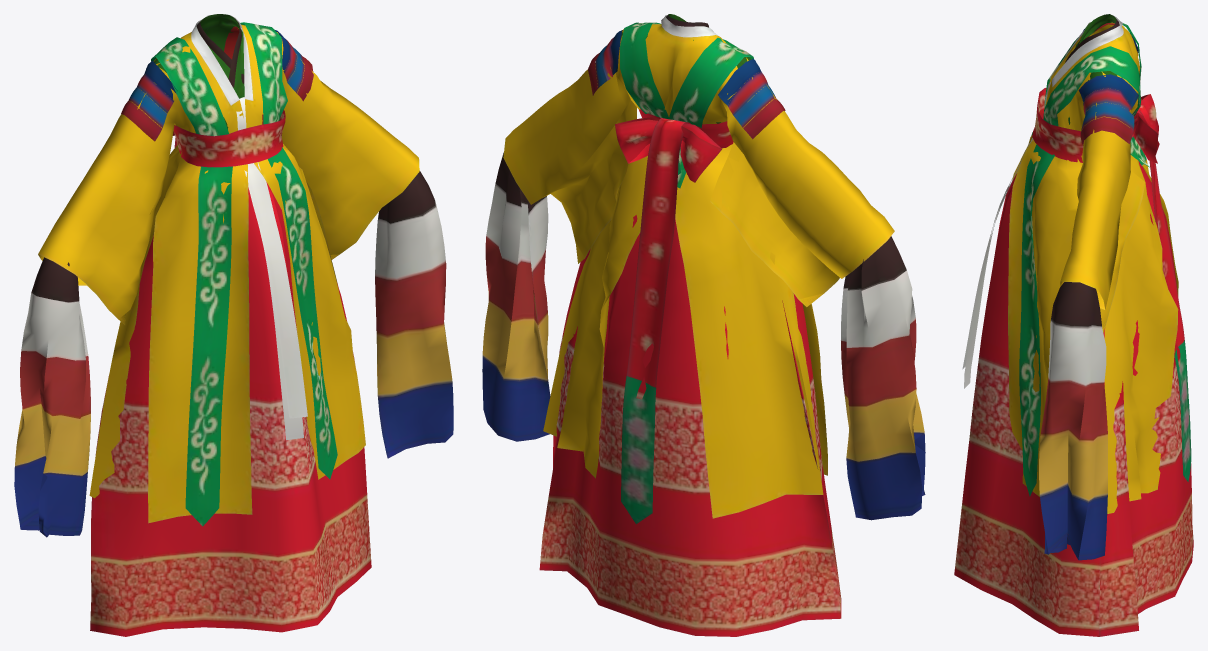
File: cl_chunaengjeon.glb
3 renders of one model, left to right at view 1: azimuth 30°, elevation 25°; view 2: azimuth 150°, elevation 25°; view 3: azimuth 270°, elevation 25°, orthographic. The views are drawn at different scales.
Visible parts, largest first — view 1: chonaeongjeon_lambert3_0; view 2: chonaeongjeon_lambert3_0; view 3: chonaeongjeon_lambert3_0.
Part boxes in pixels (<box>): chonaeongjeon_lambert3_0: <box>14,14,453,636</box>; chonaeongjeon_lambert3_0: <box>482,14,925,636</box>; chonaeongjeon_lambert3_0: <box>954,14,1193,636</box>.
Size of the model in its own units: 1.26 by 1.6 by 0.6254.
Materials: 1 (1 with a texture image).
